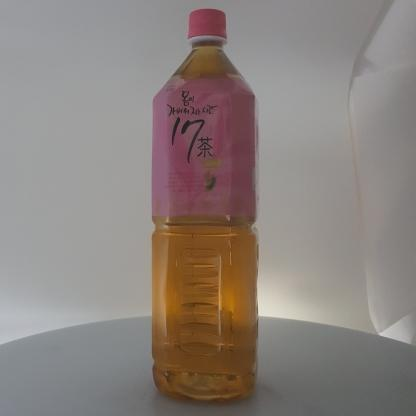--17-----1-5L: (151, 9, 260, 403)
